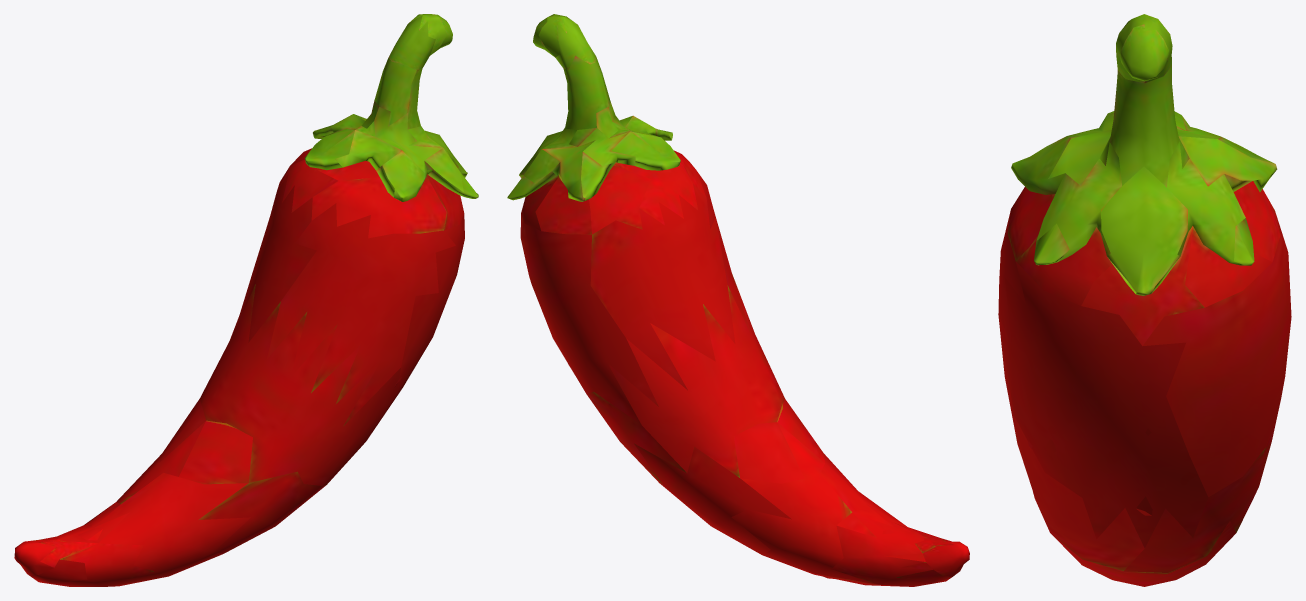
The model's file is pepper.glb.
3 views of the same model, side by side, from view 1: azimuth 30°, elevation 25°; view 2: azimuth 150°, elevation 25°; view 3: azimuth 270°, elevation 25° (orthographic). The views are drawn at different scales.
Bounding box in the file's own units: 0.9551 × 0.9941 × 0.3633.
1 material, 1 textured.
